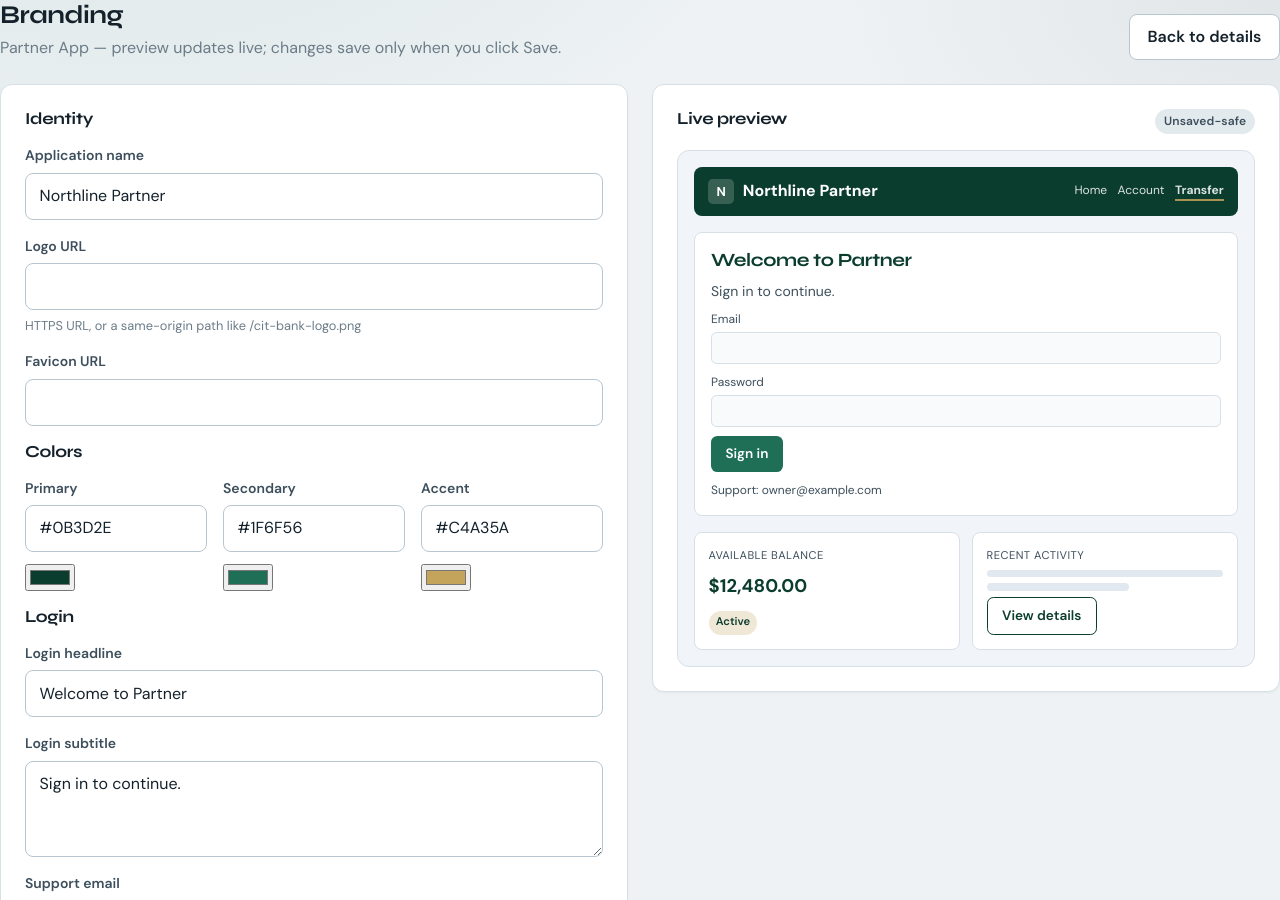
Test: Master branding › shows save failure without claiming success
Type " X" into the field labelled "Application name" at point(314, 196), box [25, 173, 603, 220]
(page scrolled)
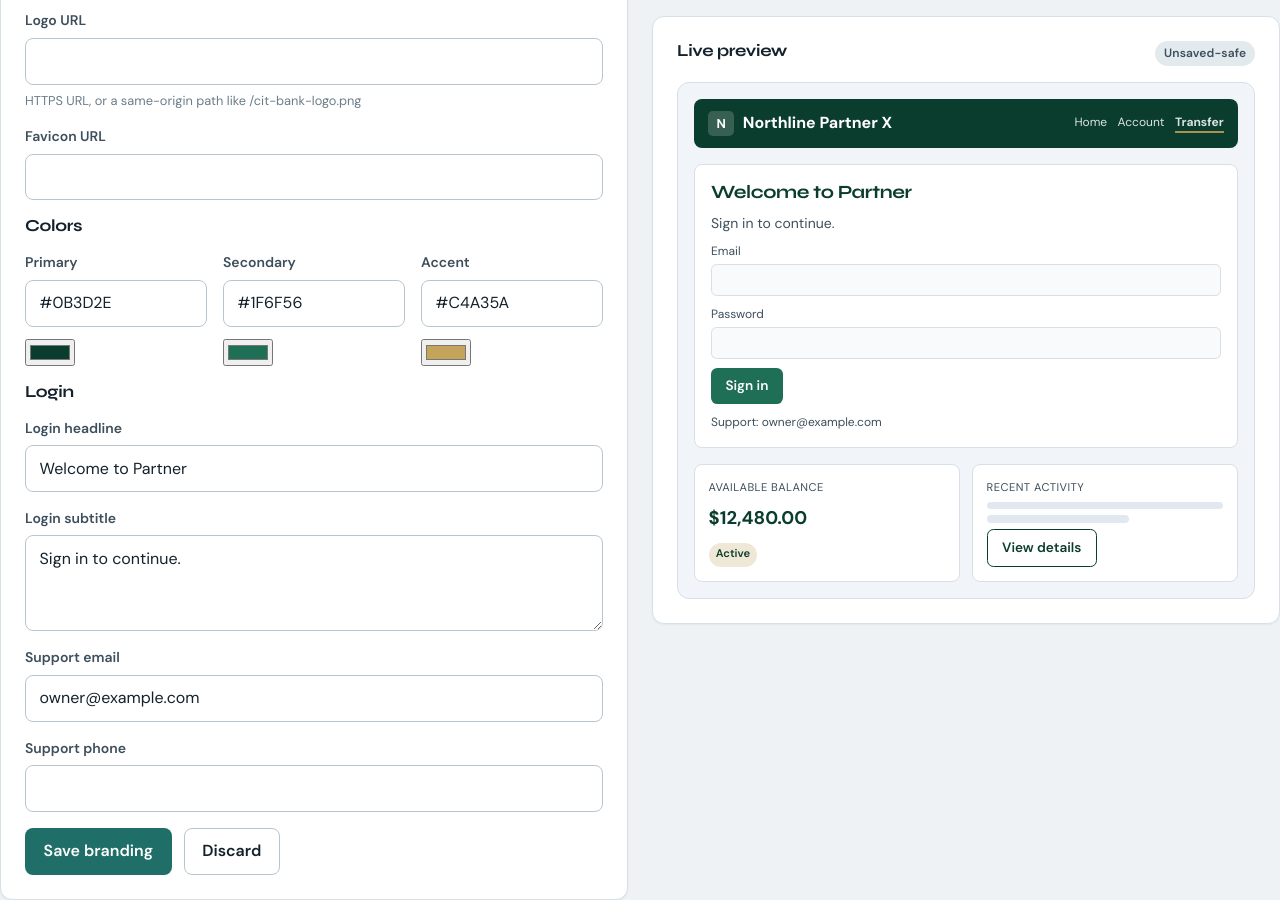
Click the button "Save branding" at point(98, 851), box [25, 828, 172, 874]
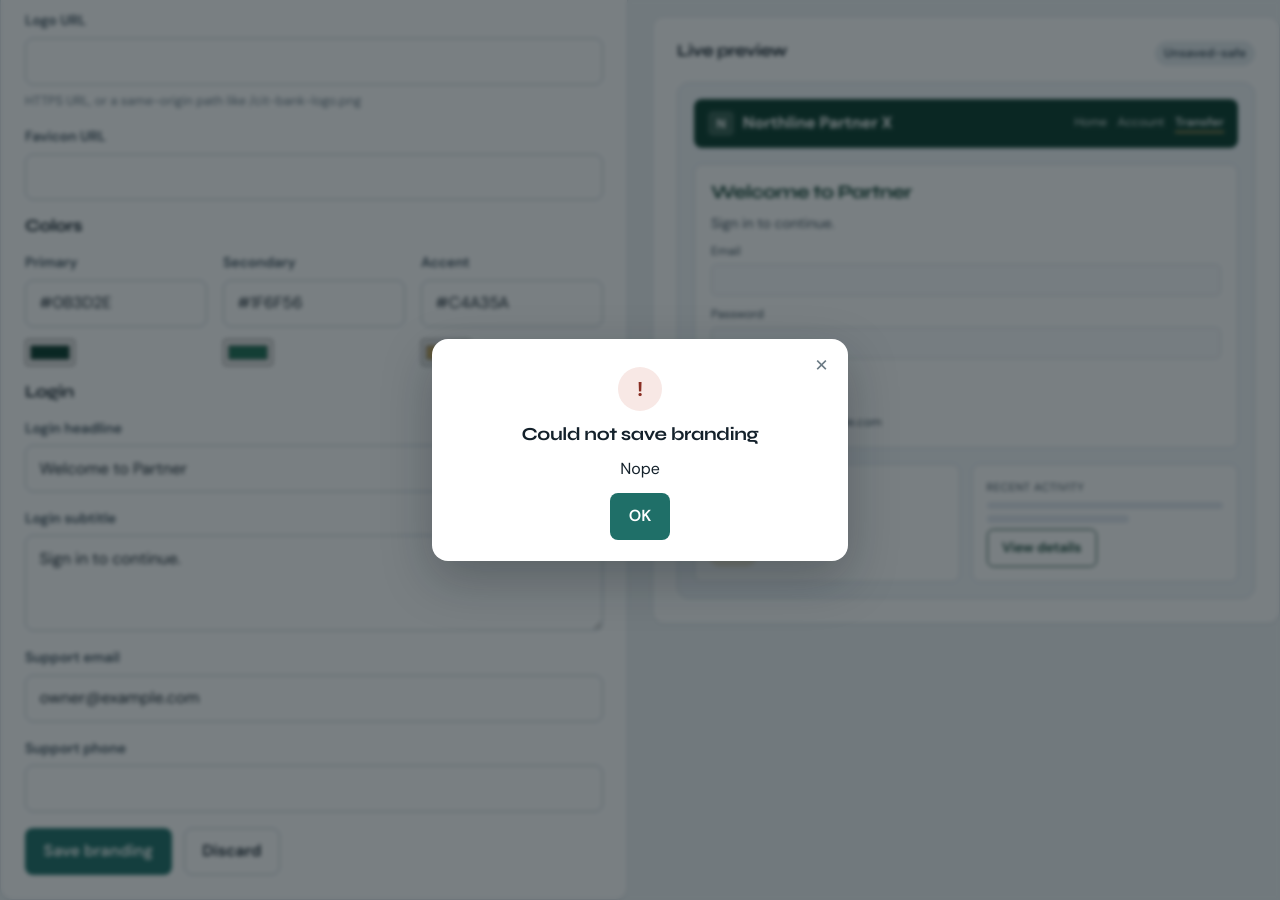
Check: the heading "Could not save branding" is shown, box [522, 423, 759, 445]
Check: the text "Nope" is shown, box [620, 457, 660, 481]
